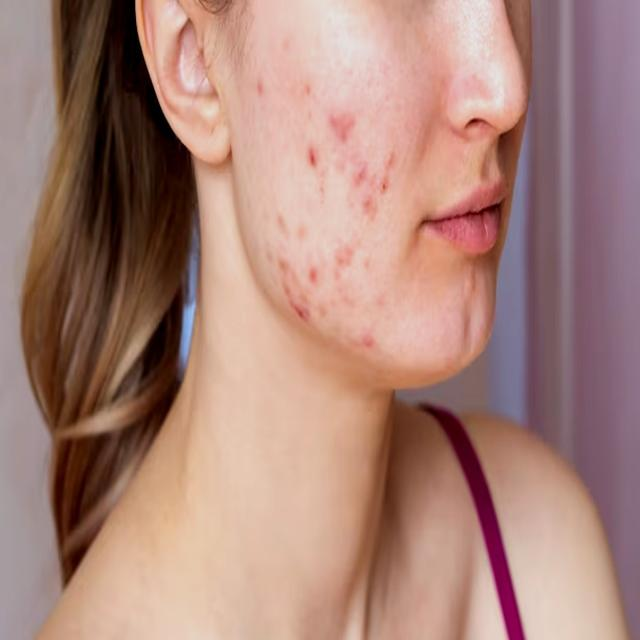acne: (235, 14, 408, 376)
